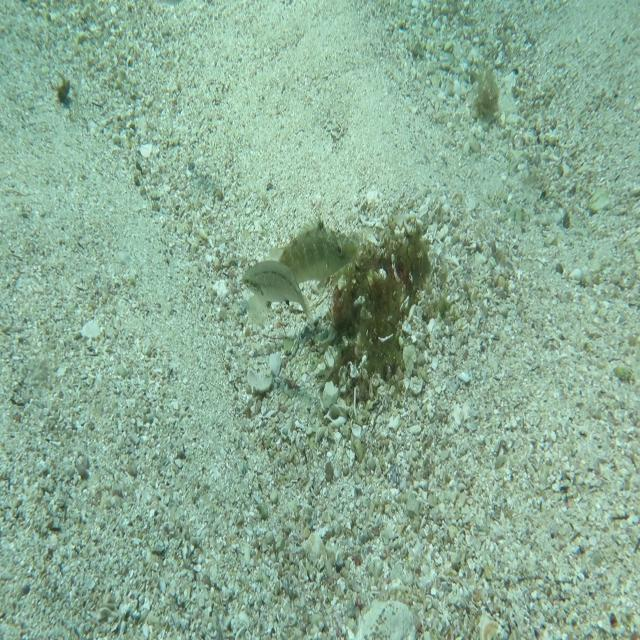LF: (243, 207, 359, 332)
female: (240, 258, 314, 331)
nest: (326, 200, 450, 409)
